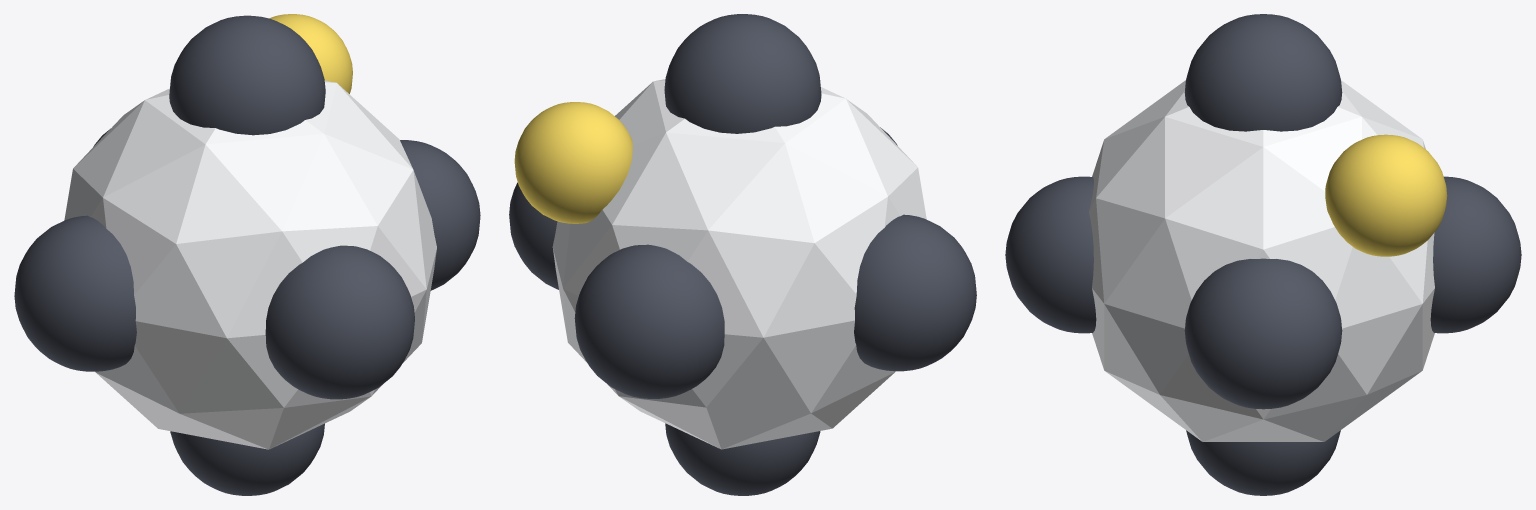
Rendered from balon_futbol.glb.
3 renders of one model, left to right at view 1: azimuth 30°, elevation 25°; view 2: azimuth 150°, elevation 25°; view 3: azimuth 270°, elevation 25°, orthographic.
Parts seen in each view (by area): view 1: Esfera_Balon, Parche_0_-0.41_0, Parche_-0.41_0_0, Parche_0_0_0.41, Parche_0_0_-0.41, Parche_0.41_0_0, Detalle_Oro; view 2: Esfera_Balon, Parche_0_0.41_0, Parche_-0.41_0_0, Parche_0_0_0.41, Detalle_Oro, Parche_0_0_-0.41, Parche_0.41_0_0; view 3: Esfera_Balon, Parche_0.41_0_0, Parche_0_0_0.41, Detalle_Oro, Parche_0_-0.41_0, Parche_0_0.41_0, Parche_0_0_-0.41.
Boxes of the visible parts, x1,y1,x2,y2 form: Esfera_Balon: [64, 80, 436, 449]; Parche_0_-0.41_0: [265, 245, 414, 399]; Parche_-0.41_0_0: [14, 215, 136, 371]; Parche_0_0_0.41: [169, 15, 325, 135]; Parche_0_0_-0.41: [170, 423, 324, 495]; Parche_0.41_0_0: [400, 140, 480, 290]; Detalle_Oro: [269, 14, 352, 93]; Esfera_Balon: [552, 79, 926, 449]; Parche_0_0.41_0: [574, 244, 724, 398]; Parche_-0.41_0_0: [854, 214, 976, 371]; Parche_0_0_0.41: [664, 14, 821, 133]; Detalle_Oro: [514, 102, 632, 223]; Parche_0_0_-0.41: [665, 423, 820, 495]; Parche_0.41_0_0: [509, 182, 558, 289]; Esfera_Balon: [1089, 80, 1434, 441]; Parche_0.41_0_0: [1184, 258, 1342, 409]; Parche_0_0_0.41: [1184, 14, 1342, 131]; Detalle_Oro: [1325, 134, 1447, 256]; Parche_0_-0.41_0: [1005, 176, 1096, 333]; Parche_0_0.41_0: [1430, 176, 1521, 333]; Parche_0_0_-0.41: [1186, 430, 1340, 495].
Bounding box in the file's own units: 1.18 × 1.18 × 1.18.
